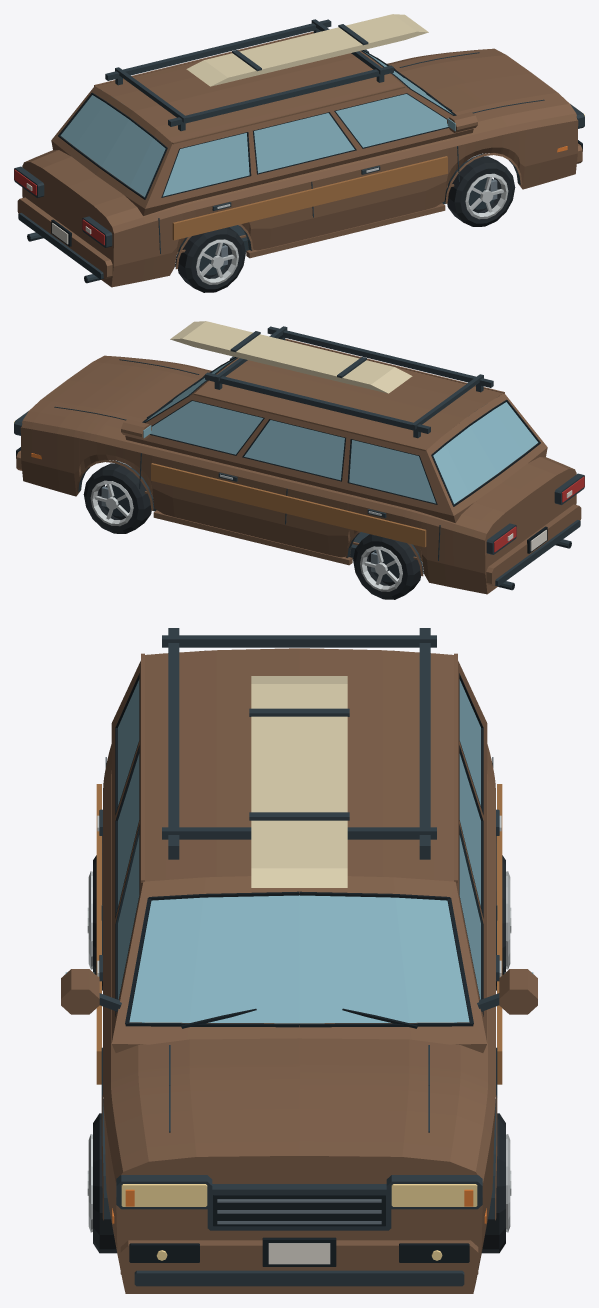
Rendered from b03_longroof_surf_wagon.glb.
3 views of the same model, one above another, from view 1: azimuth 30°, elevation 25°; view 2: azimuth 150°, elevation 25°; view 3: azimuth 270°, elevation 25° (orthographic). The views are drawn at different scales.
Parts seen in each view (by area): view 1: b03_longroof_surf_wagon; view 2: b03_longroof_surf_wagon; view 3: b03_longroof_surf_wagon.
Part boxes in pixels (x1,y1,x2,y2): b03_longroof_surf_wagon: (14,14,584,292); b03_longroof_surf_wagon: (14,321,584,599); b03_longroof_surf_wagon: (61,628,537,1293).
Bounding box in the file's own units: 5.47 × 1.9 × 2.33.
